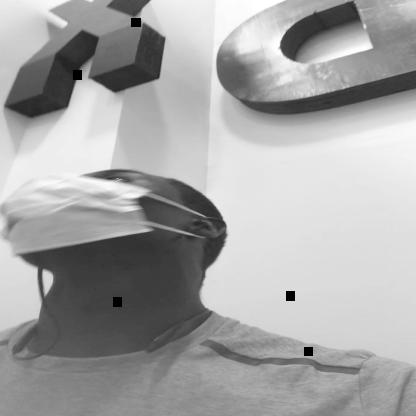mask: (0, 168, 211, 263)
